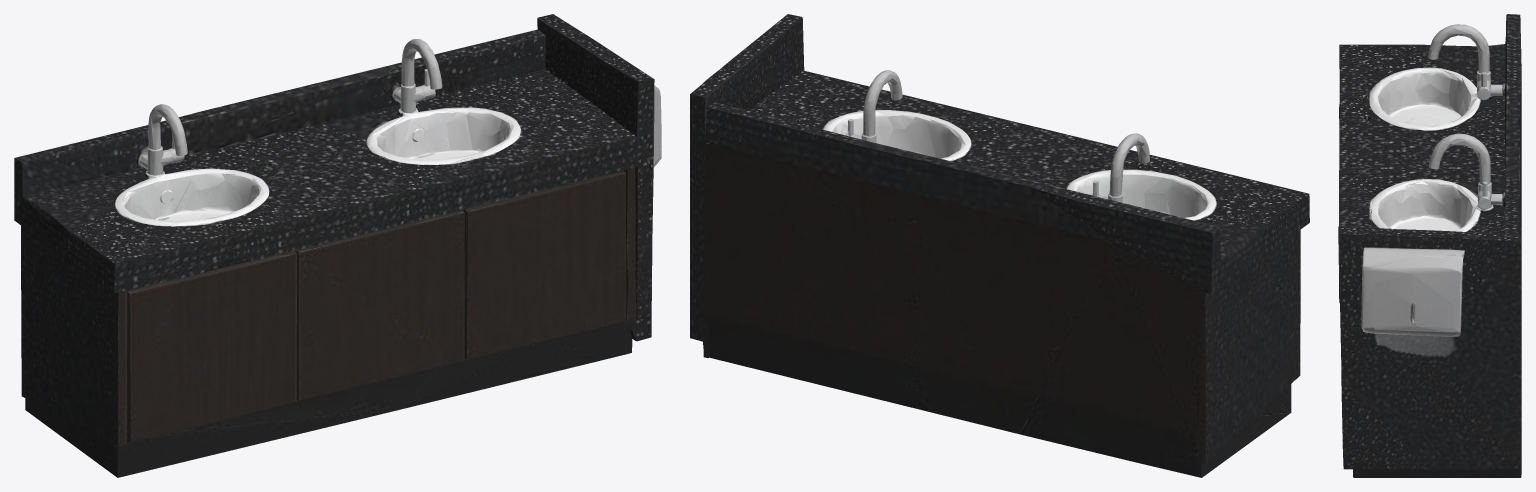
File: sink_vanity.glb
3 views of the same model, side by side, from view 1: azimuth 30°, elevation 25°; view 2: azimuth 150°, elevation 25°; view 3: azimuth 270°, elevation 25° (orthographic). The views are drawn at different scales.
Bounding box in the file's own units: 1.9 × 0.9855 × 0.5919.
Materials: 1 (1 with a texture image).
